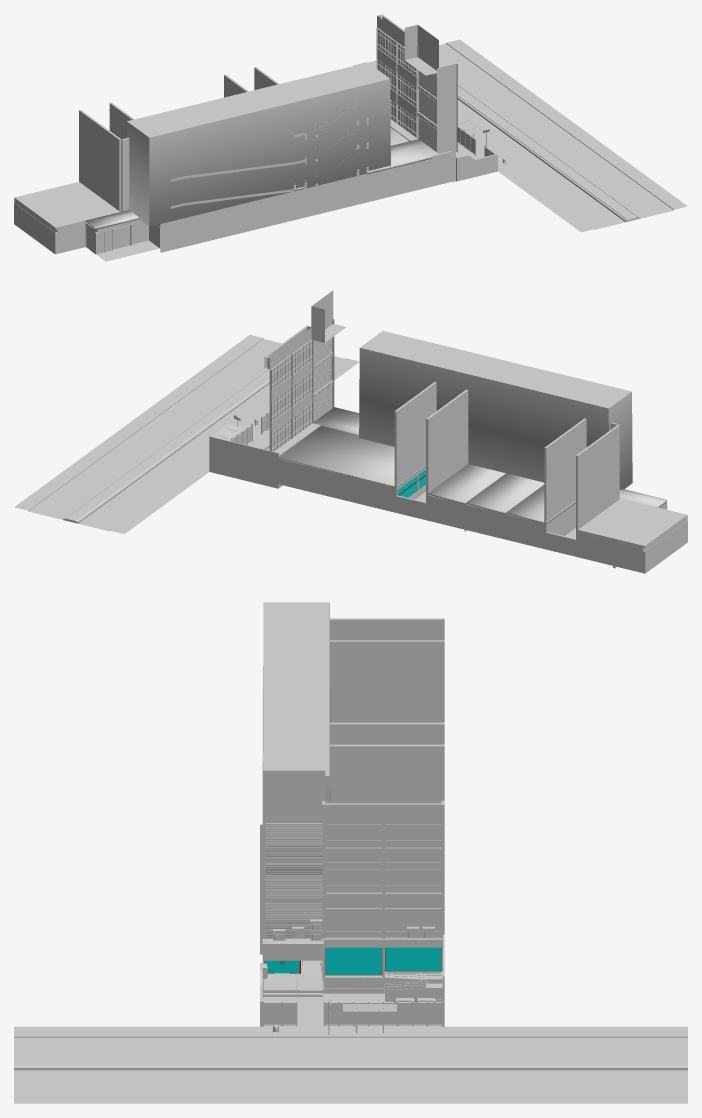
Rendered from senac_blocagem.fbx.
The picture shows the model from 3 angles, top to bottom: view 1: azimuth 30°, elevation 25°; view 2: azimuth 150°, elevation 25°; view 3: azimuth 270°, elevation 25°; orthographic projection. The views are drawn at different scales.
Visible parts, largest first — view 1: Cube.053, Plane.078, Cube.023, Plane.079, Plane.113, Plane.006, Plane.114, Plane.222, Plane.144, Plane.259, Plane.140, Plane.296 (+8 smaller); view 2: Cube.053, Plane.078, Cube.023, Plane.297, Plane.079, Plane.007, Plane.008, Plane.031, Plane.300, Plane.192, Plane.299, Plane.144 (+20 smaller); view 3: Plane.078, Cube.023, Cube.053, Plane.079, Plane.172, Plane.214, Plane.138, Plane.259, Plane.156, Plane.239, Plane.032, Plane.320 (+4 smaller).
Boxes of the visible parts, box(x1,y1,x2,y2) form: Cube.053: box(127, 62, 390, 226); Plane.078: box(353, 39, 687, 232); Cube.023: box(376, 14, 457, 153); Plane.079: box(457, 84, 640, 222); Plane.113: box(258, 176, 356, 228); Plane.006: box(357, 152, 455, 204); Plane.114: box(160, 200, 257, 252); Plane.222: box(14, 190, 86, 229); Plane.144: box(46, 182, 119, 219); Plane.259: box(79, 110, 121, 164); Plane.140: box(79, 135, 121, 188); Plane.296: box(366, 139, 439, 174); Cube.053: box(359, 331, 632, 489); Plane.078: box(14, 335, 359, 534); Cube.023: box(264, 290, 346, 451); Plane.297: box(278, 426, 425, 487); Plane.079: box(63, 369, 269, 523); Plane.007: box(278, 459, 397, 512); Plane.008: box(426, 495, 544, 548); Plane.031: box(209, 436, 279, 488); Plane.300: box(466, 473, 544, 514); Plane.192: box(578, 532, 643, 572); Plane.299: box(428, 464, 505, 504); Plane.144: box(578, 498, 654, 540); Plane.078: box(14, 1026, 687, 1103); Cube.023: box(260, 770, 444, 954); Cube.053: box(263, 602, 330, 800); Plane.079: box(14, 1057, 687, 1070); Plane.172: box(330, 744, 444, 782); Plane.214: box(330, 640, 444, 677); Plane.138: box(330, 678, 444, 714); Plane.259: box(330, 618, 444, 640); Plane.156: box(330, 722, 444, 744); Plane.239: box(330, 782, 444, 800); Plane.032: box(263, 993, 441, 1026); Plane.320: box(325, 947, 382, 975).
Bounding box in the file's own units: 8765 × 2309 × 6555.
